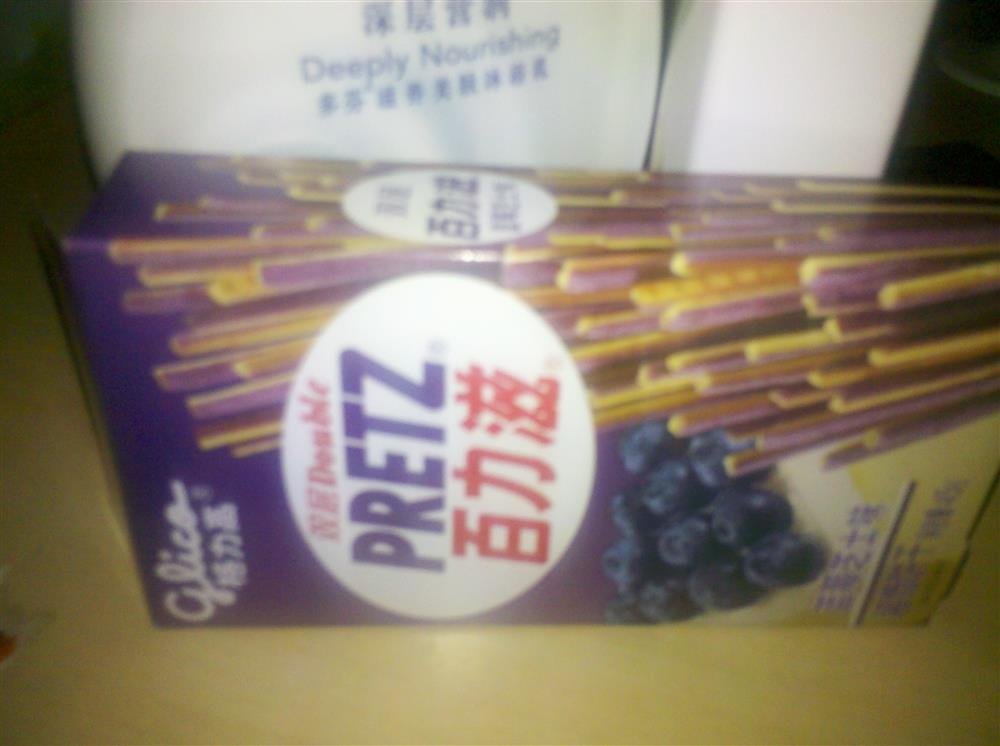Pretz: (87, 165, 989, 663)
